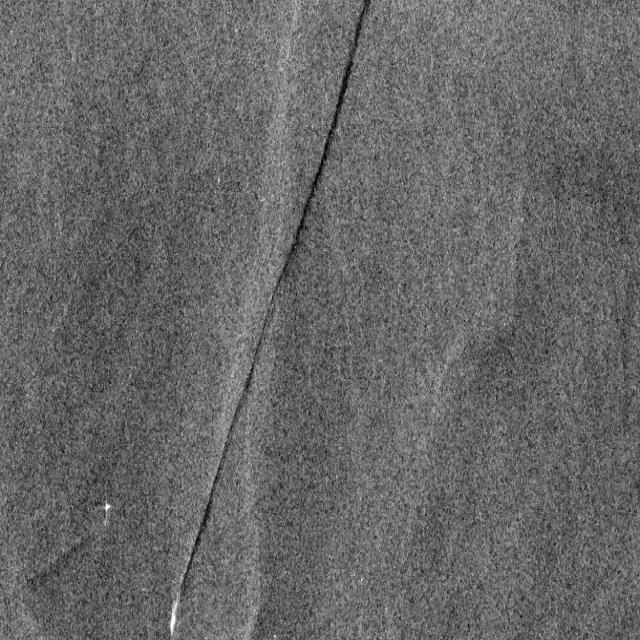oil-spill: (166, 2, 374, 640)
